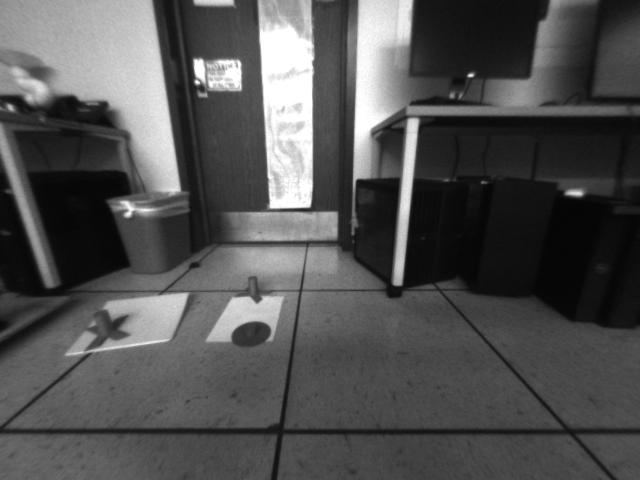X: (86, 308, 132, 353), (237, 276, 271, 303)
